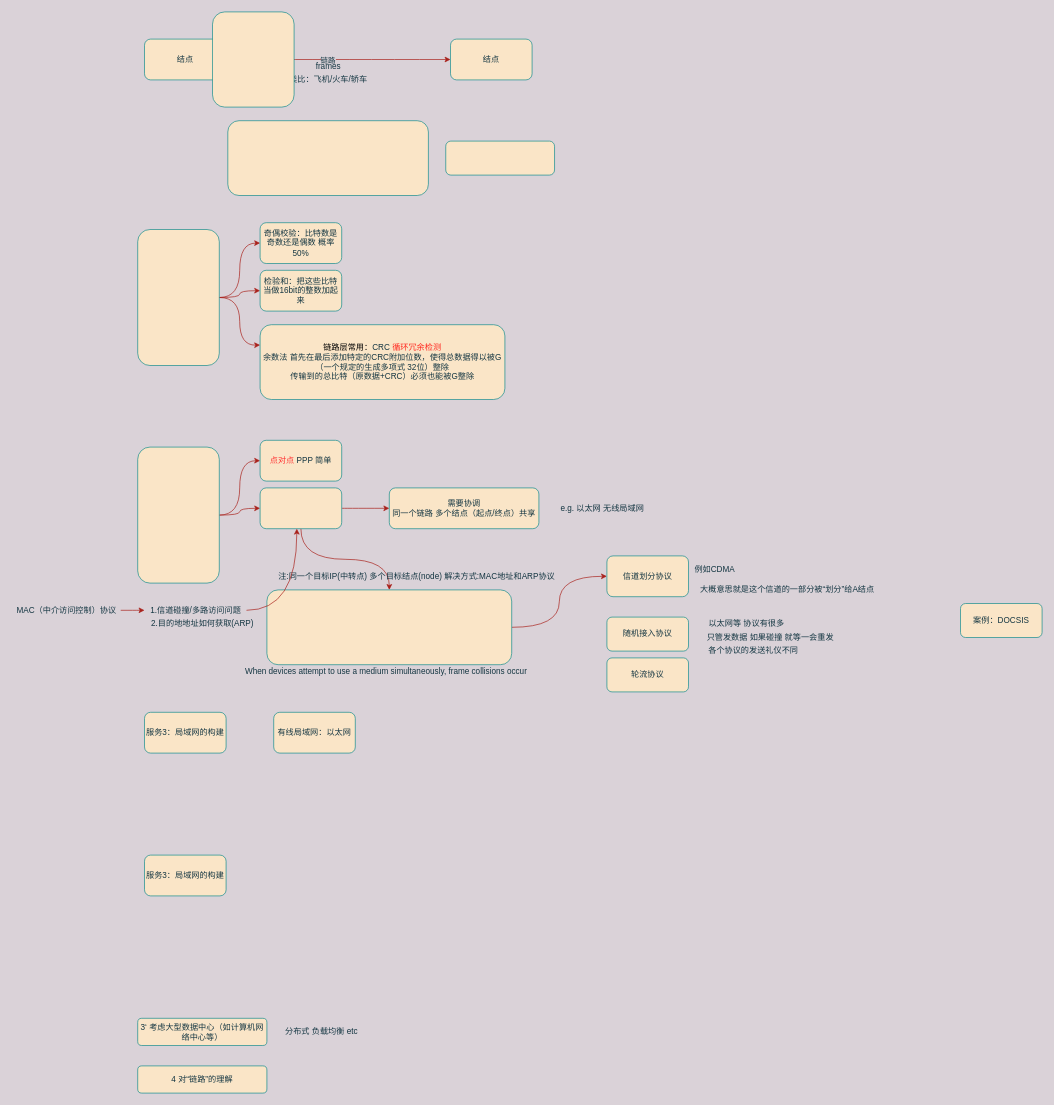
Some shapes in this 1054 by 1105 pixel diagram are drawn without their labels. The centre of each missing label's shape, as x and y in pixels:
主要服务：framing 成帧 MAC Medium access control 传输帧 可靠交付（不必要） 差错纠正: pixel 327 158
多路访问 问题：共享信道（“公共空间”）的传输行为 ——防止 帧的碰撞 ，同时接收多个来源的帧导致失效: pixel 389 627
广播链路 协议: pixel 300 508
服务1：差错纠正：比特差错: pixel 178 297
服务2：多路访问 （多个发送/接收结点如何在一个链路上共存）: pixel 178 514
网络适配器/网卡 软件+硬件 =CPU（部分） 存储器（部分） 控制器 物理传输: pixel 253 59
软件还是硬件？软硬件结合: pixel 500 157
